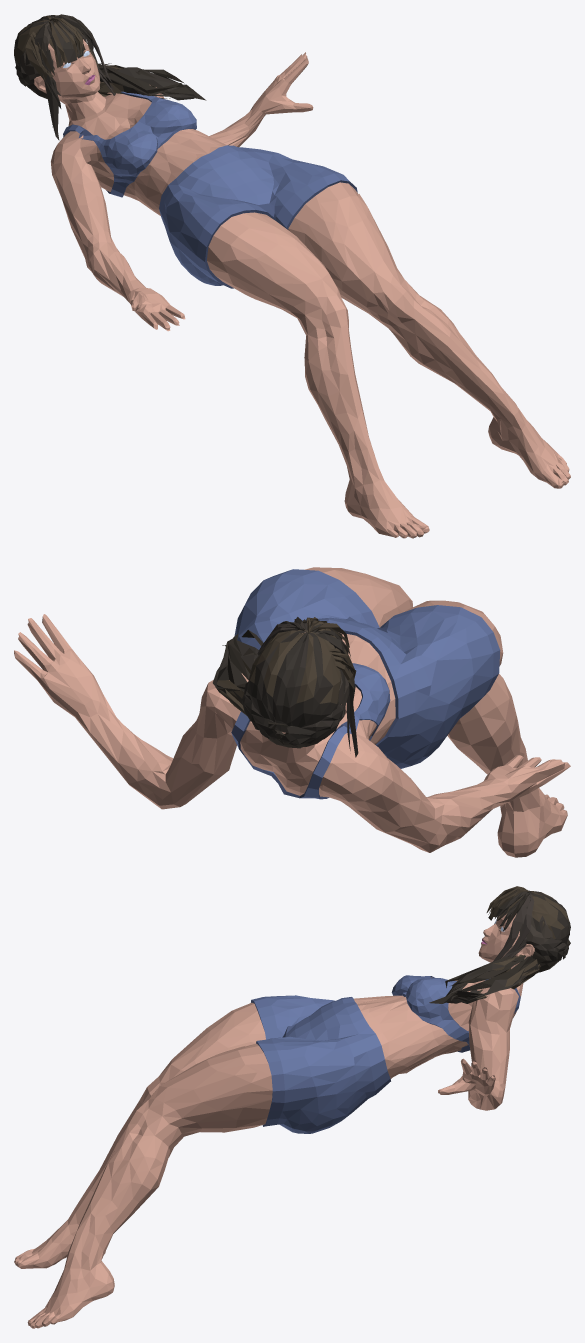
File: elizabeth.fbx
3 views of the same model, one above another, from view 1: azimuth 30°, elevation 25°; view 2: azimuth 150°, elevation 25°; view 3: azimuth 270°, elevation 25° (orthographic). The views are drawn at different scales.
Parts seen in each view (by area): view 1: intim_suit.001; view 2: intim_suit.001; view 3: intim_suit.001.
Part boxes in pixels (x1,y1,x2,y2): intim_suit.001: (14, 14, 570, 538); intim_suit.001: (14, 567, 570, 857); intim_suit.001: (14, 886, 570, 1328).
Size of the model in its own units: 0.8709 by 1.4 by 0.9249.
